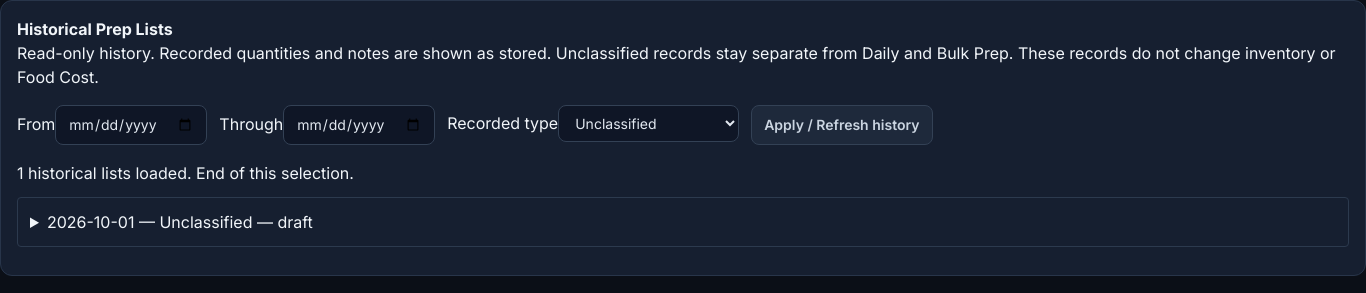
Test: filter changes clear prior results and explicitly request unclassified history
Select "Unclassified" in the dropdown labelled "Recorded type" at x=649, y=124, box [558,105,739,142]
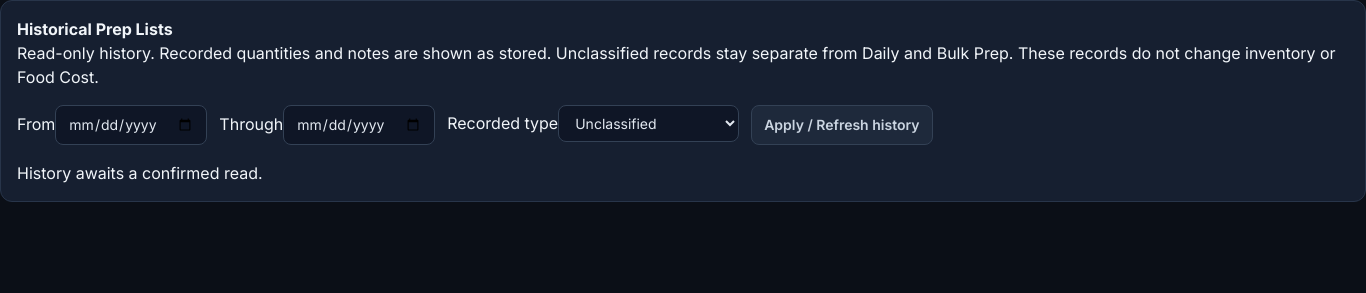
Click the button "Apply / Refresh history" at x=842, y=125, box [751,105,932,145]
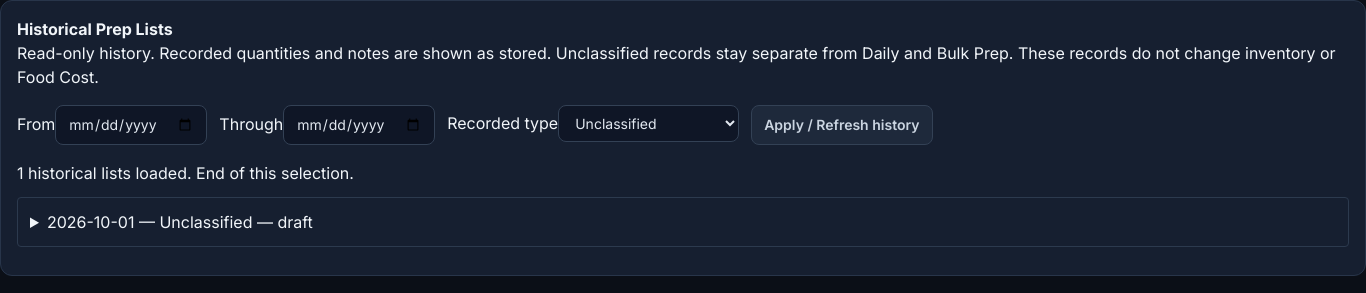
expect the heading "2026-10-01 — Unclassified — draft" is shown: met, box [47,212,313,232]
